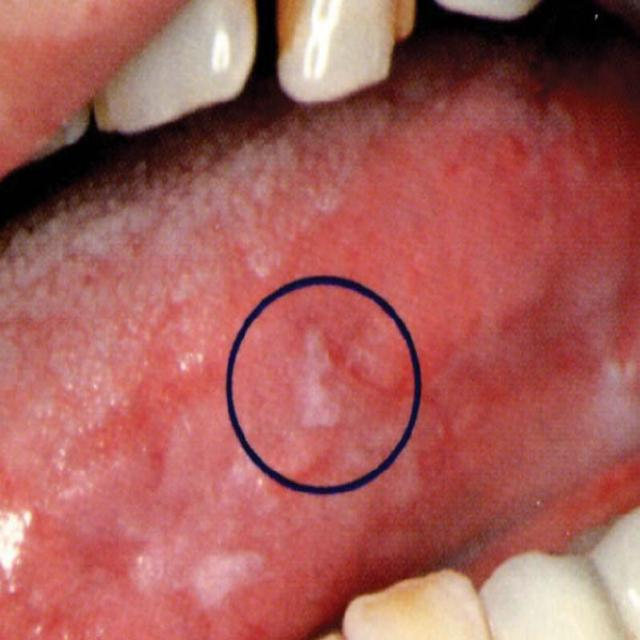normal_tongue: (69, 234, 632, 608)
